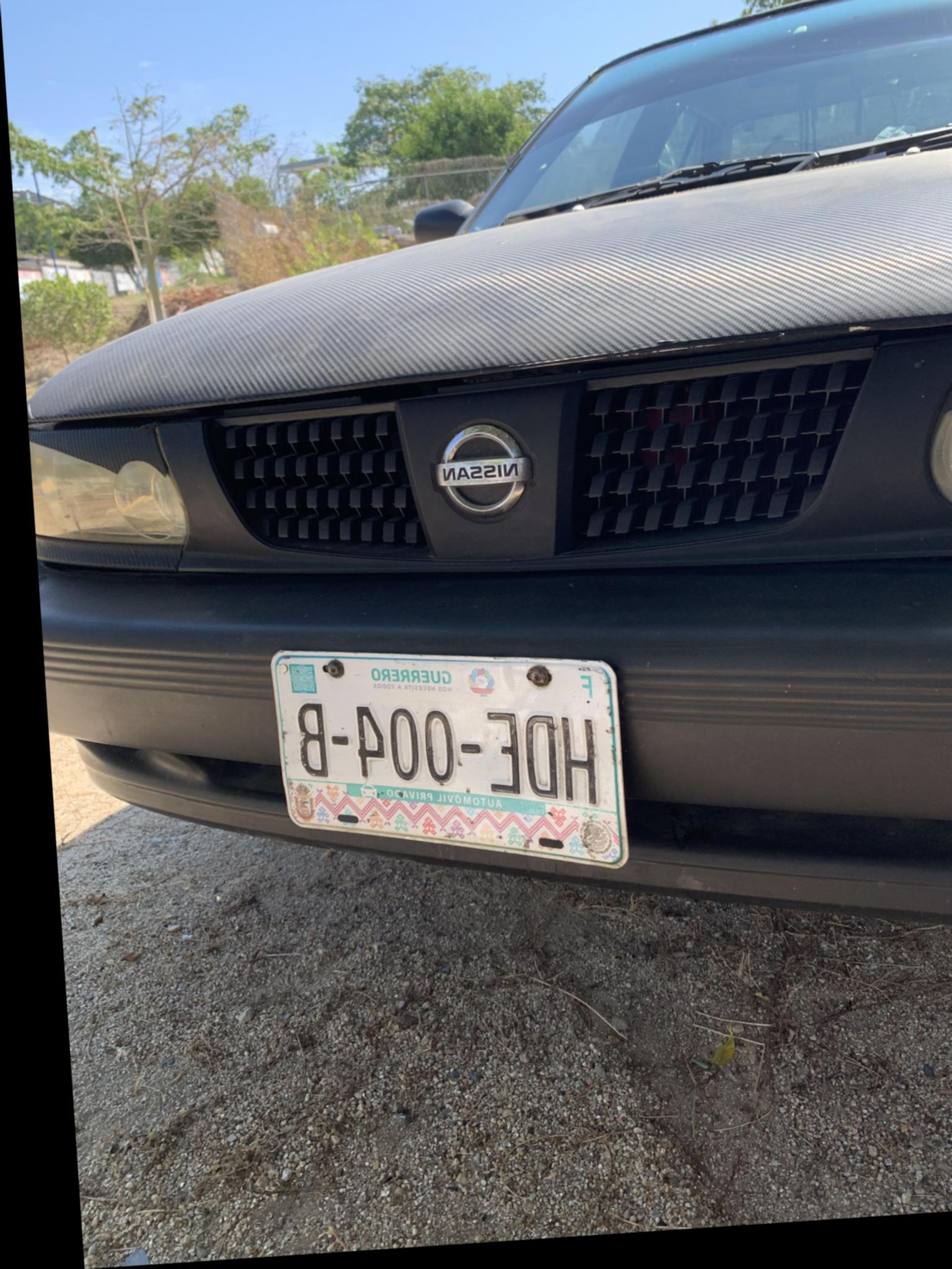License_Plate: (262, 631, 648, 889)
